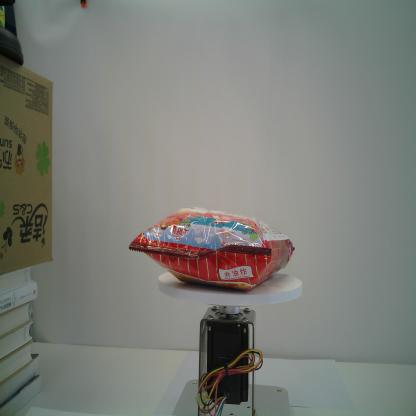Puffed Food: (128, 204, 295, 293)
